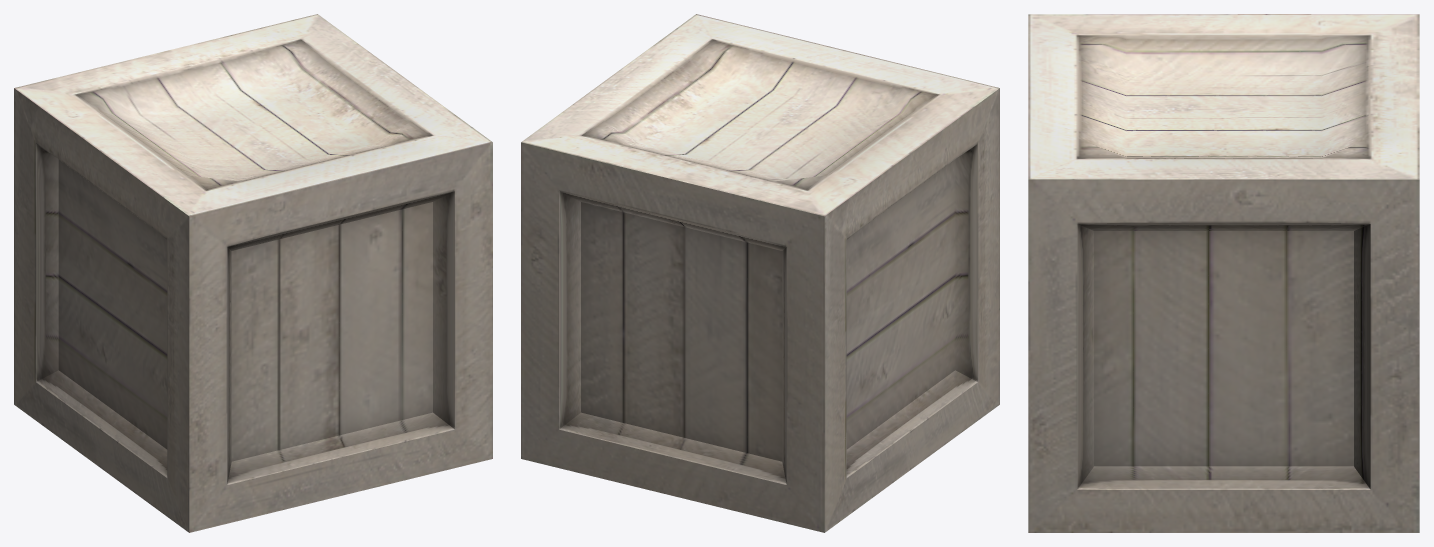
Rendered from crate_Setuped.fbx.
The picture shows the model from 3 angles, left to right: view 1: azimuth 30°, elevation 25°; view 2: azimuth 150°, elevation 25°; view 3: azimuth 270°, elevation 25°; orthographic projection. The views are drawn at different scales.
Parts seen in each view (by area): view 1: Cube; view 2: Cube; view 3: Cube.
Boxes of the visible parts, <box> form: Cube: <box>14,14,492,532</box>; Cube: <box>521,14,999,532</box>; Cube: <box>1028,14,1419,532</box>.
Size of the model in its own units: 200 by 199 by 200.
1 material, 1 textured.
